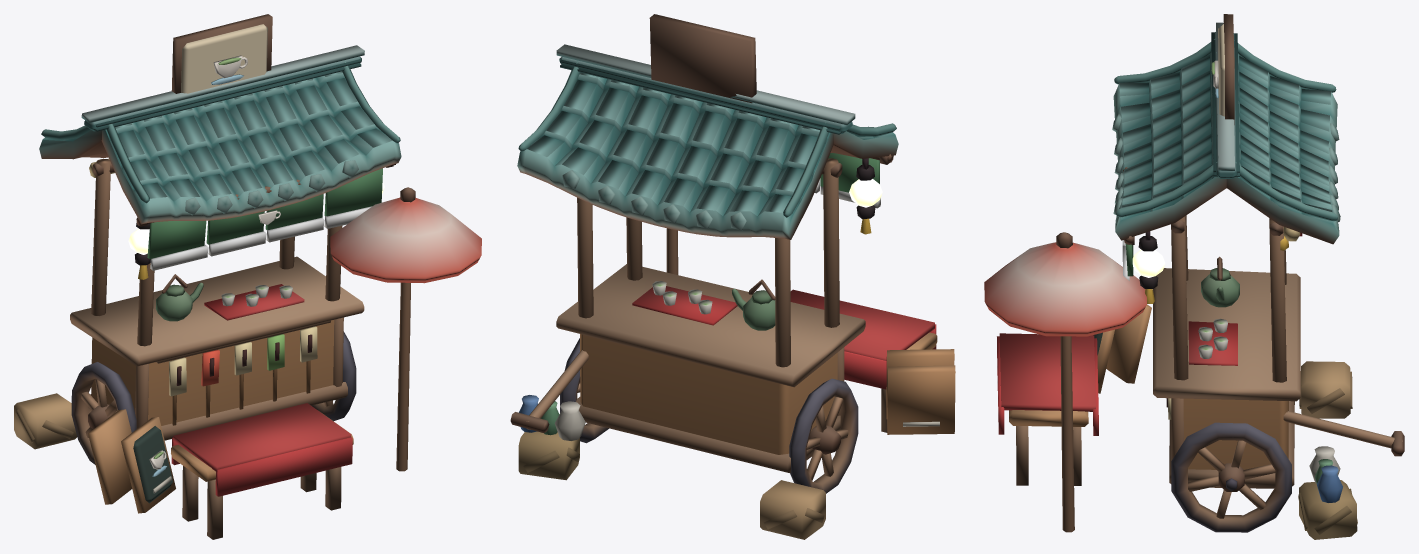
Rendered from shop-1-v6.glb.
The picture shows the model from 3 angles, left to right: view 1: azimuth 30°, elevation 25°; view 2: azimuth 150°, elevation 25°; view 3: azimuth 270°, elevation 25°; orthographic projection. The views are drawn at different scales.
Visible parts, largest first — view 1: shop-1-v6; view 2: shop-1-v6, window_glow; view 3: shop-1-v6, window_glow.
Boxes of the visible parts, x1=… form: shop-1-v6: x1=14, y1=14, x2=481, y2=539; shop-1-v6: x1=510, y1=14, x2=955, y2=539; window_glow: x1=849, y1=179, x2=882, y2=207; shop-1-v6: x1=984, y1=14, x2=1404, y2=539; window_glow: x1=1132, y1=249, x2=1165, y2=277.
Bounding box in the file's own units: 2.34 × 2.57 × 2.22.
